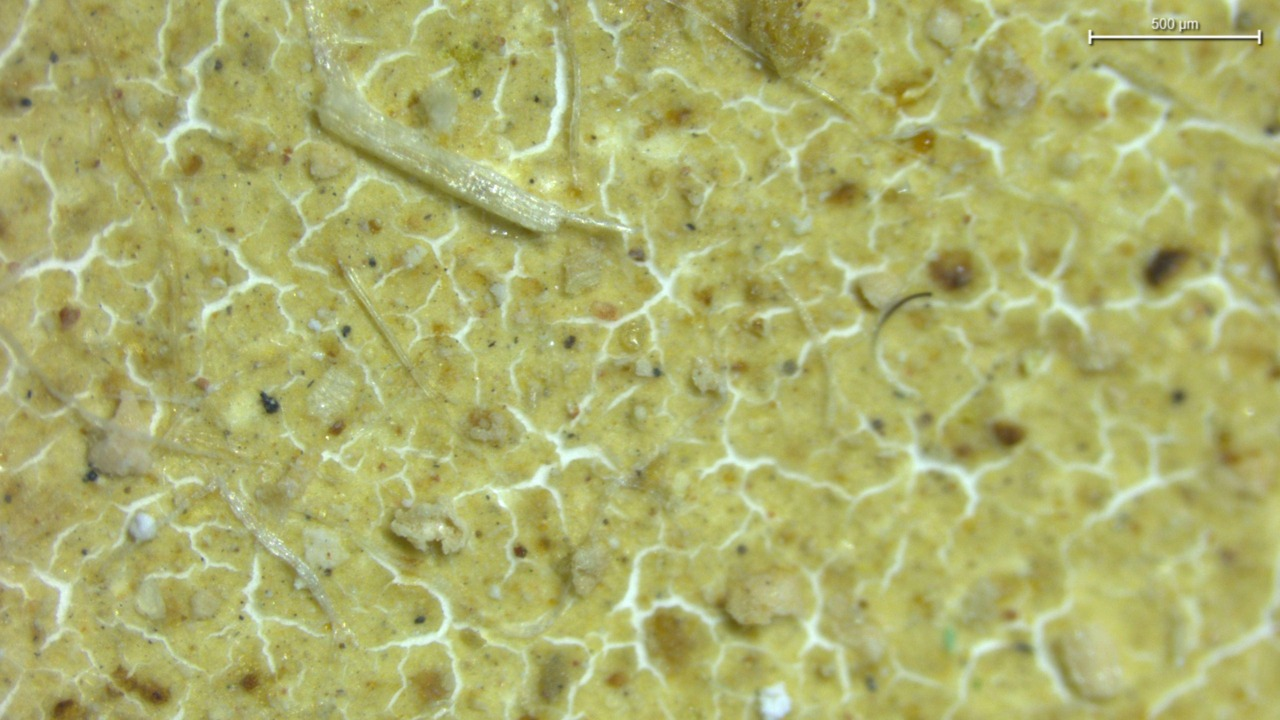microplastic_fragment: (390, 503, 466, 554), (852, 271, 907, 310), (759, 683, 792, 720), (127, 512, 156, 542)
